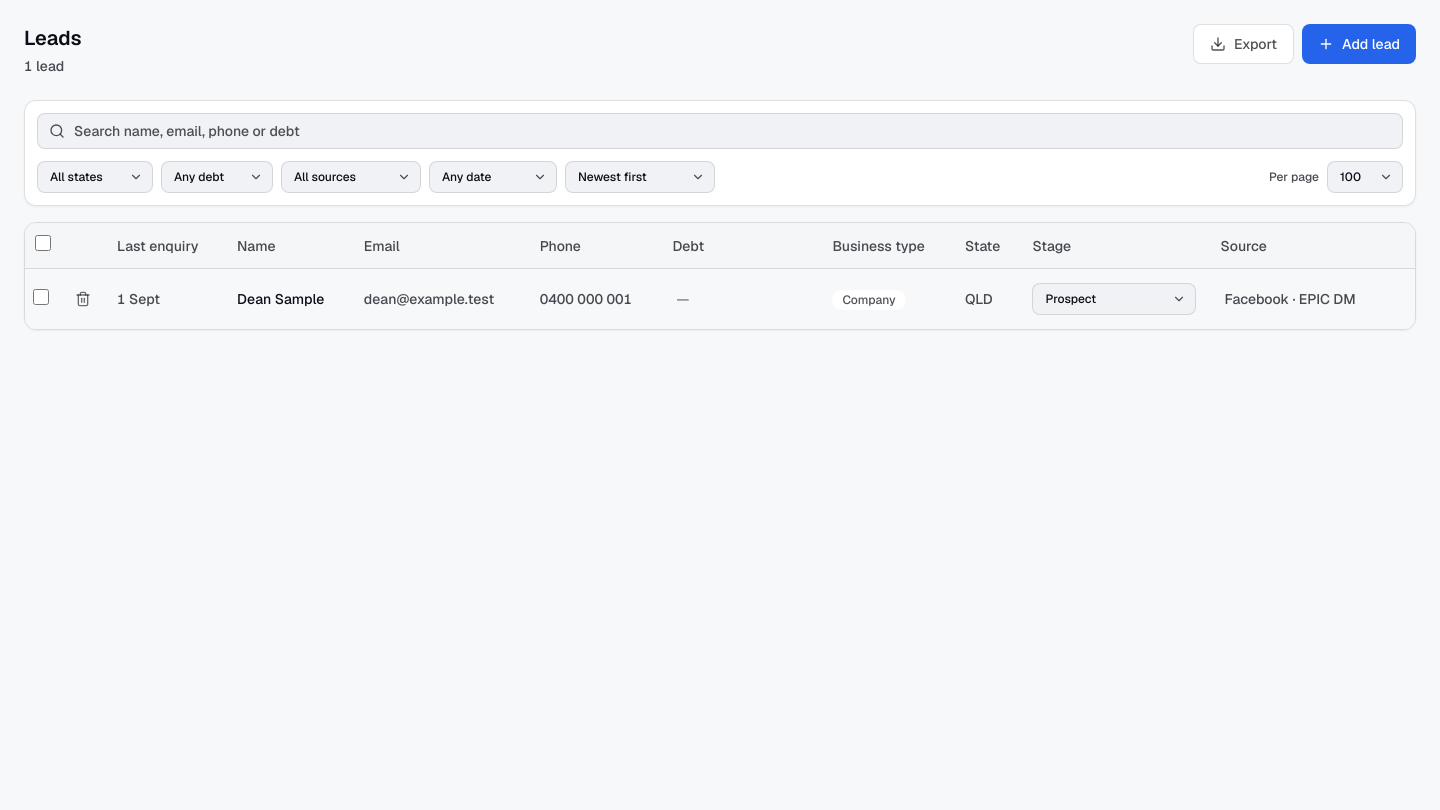
Test case: SourceInput › shows the source with its partner, and takes any typed source
The width and height of the screenshot is (1440, 810).
Click the button with aria-label "Edit source for Dean Sample" at (1299, 299), box [1220,287,1378,311]
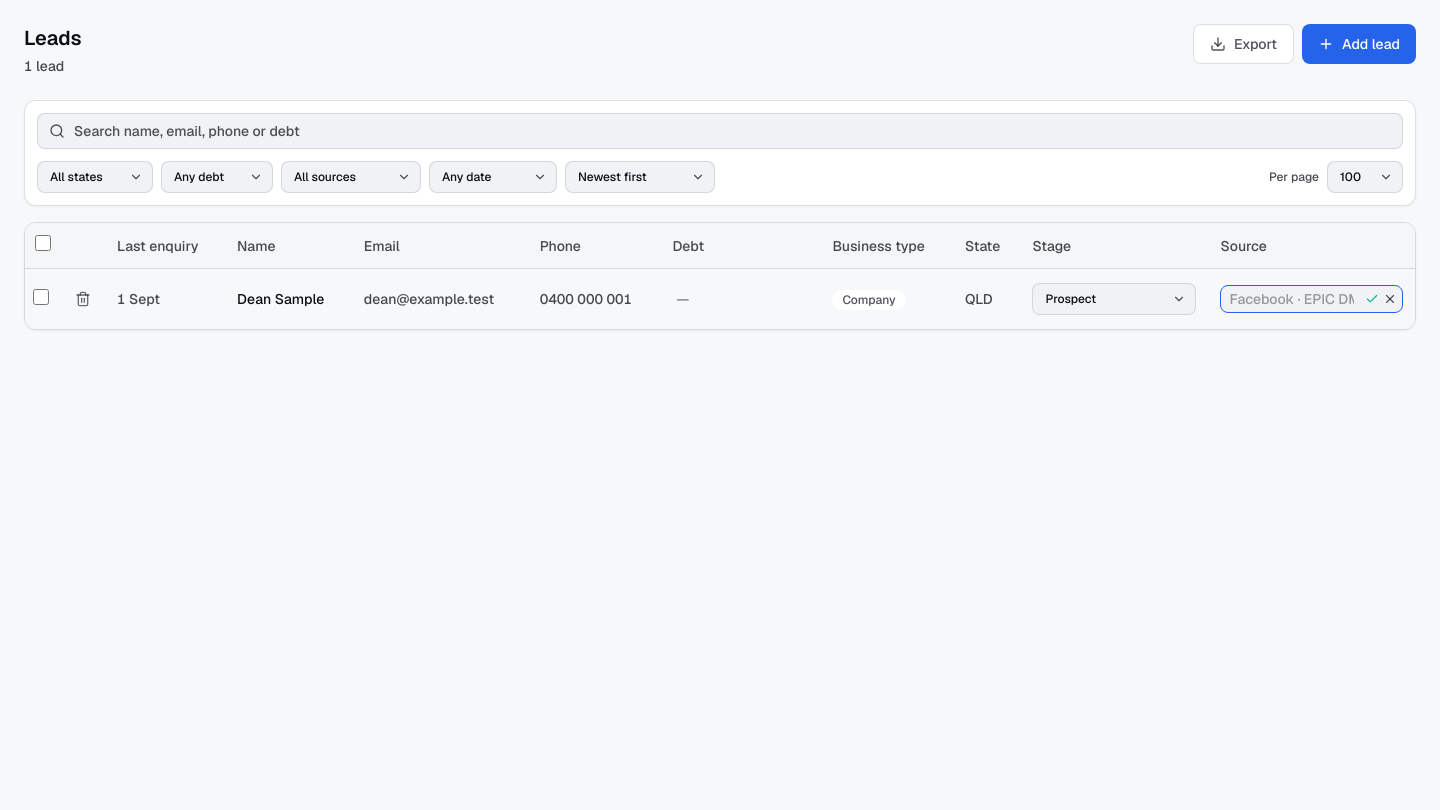
expect the field named "Source for Dean Sample" is empty: met
Type "  Referral from Dave " into the field named "Source for Dean Sample" at (1312, 299), box [1220,285,1403,313]
Then press Enter
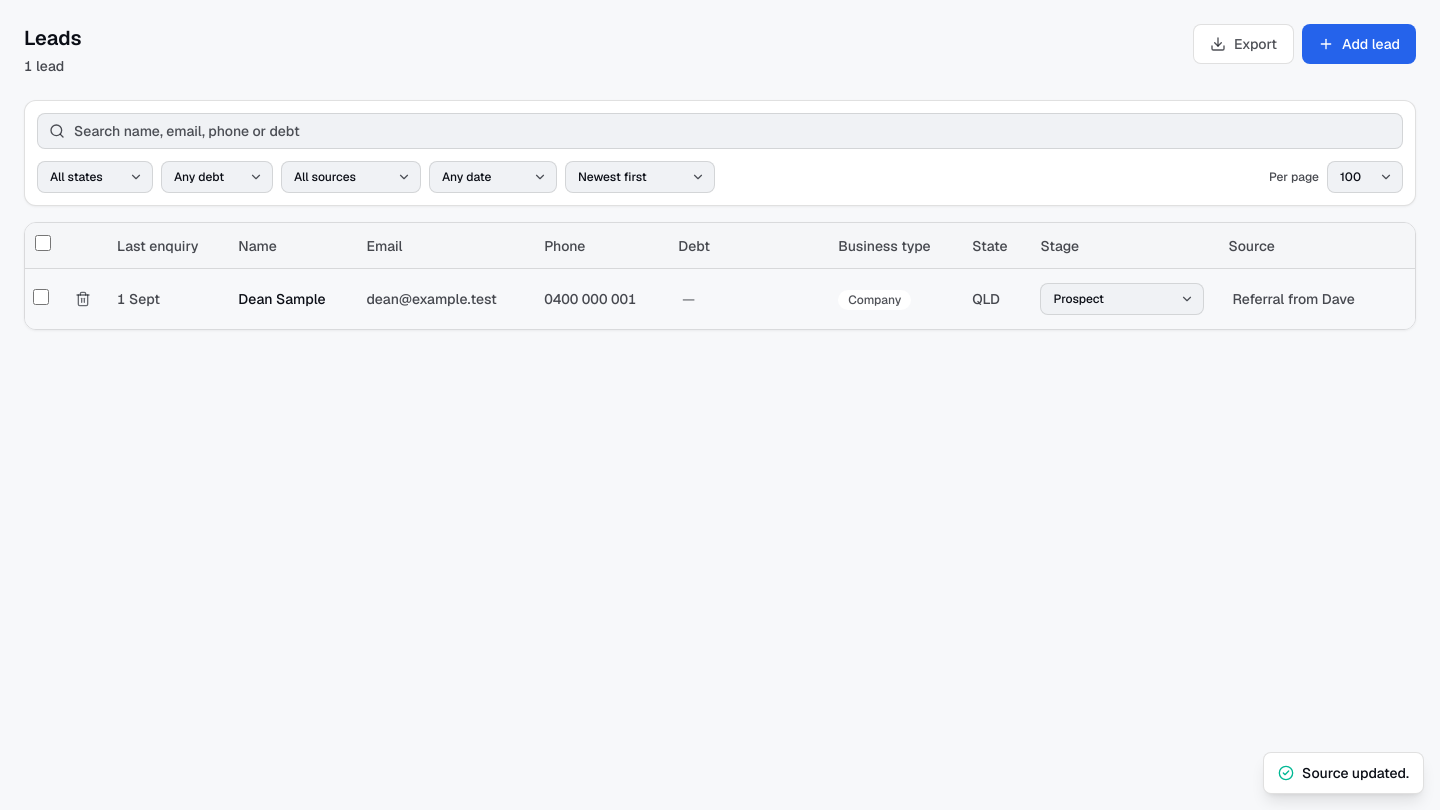
expect the button with aria-label "Edit source for Dean Sample" reads "Referral from Dave": met, box [1228,287,1377,311]
expect the text "Source updated." is shown: met, box [1302,763,1409,783]
